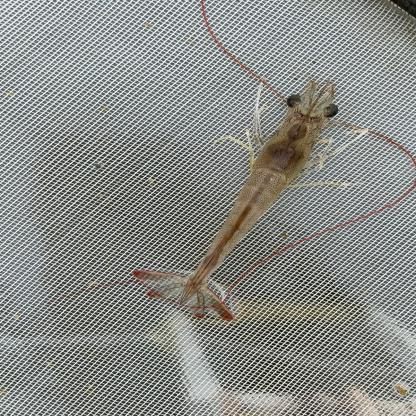shrimp: (134, 78, 338, 323)
